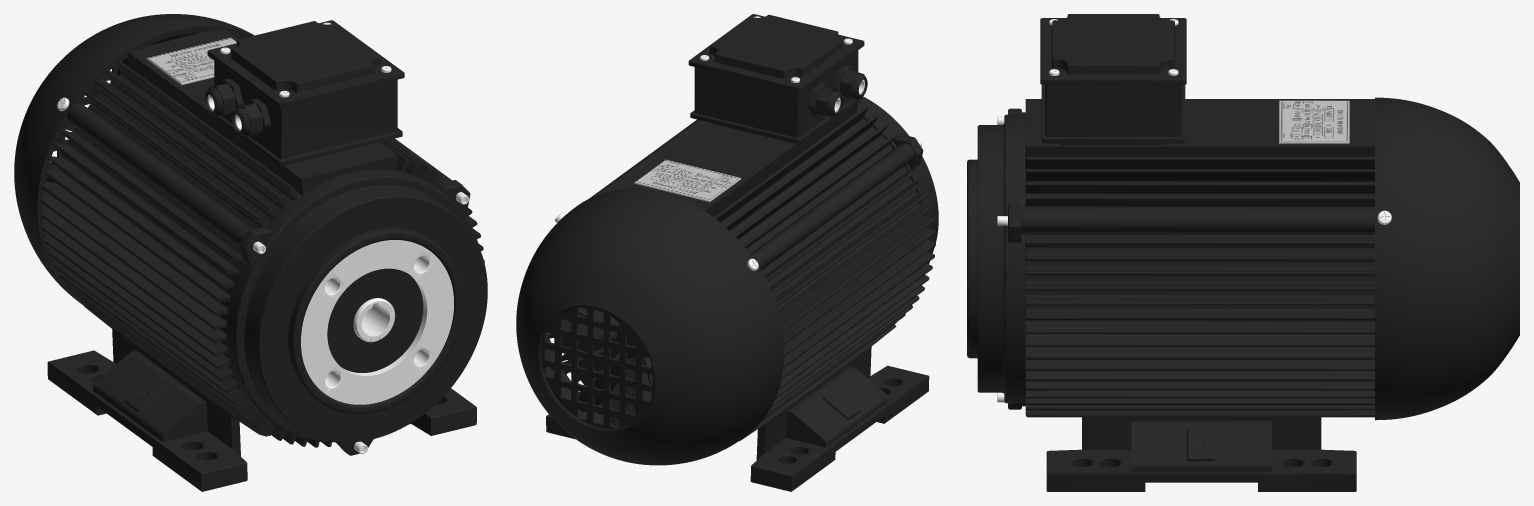
File: Electric_Motor.glb
The picture shows the model from 3 angles, left to right: view 1: azimuth 30°, elevation 25°; view 2: azimuth 150°, elevation 25°; view 3: azimuth 270°, elevation 25°; orthographic projection. The views are drawn at different scales.
Parts seen in each view (by area): view 1: Object_5, Object_3, Object_4, Object_2; view 2: Object_5, Object_4, Object_2, Object_3; view 3: Object_5, Object_4, Object_2, Object_3.
Part boxes in pixels (x1,y1,x2,y2): Object_5: (40,20,487,491); Object_3: (57,22,468,454); Object_4: (14,14,254,306); Object_2: (146,37,236,85); Object_5: (546,14,938,491); Object_4: (516,188,784,465); Object_2: (634,159,740,201); Object_3: (554,16,921,270); Object_5: (967,14,1377,491); Object_4: (1375,97,1519,420); Object_2: (1279,100,1349,143); Object_3: (997,19,1391,402).
Size of the model in its own units: 22.9 by 30.2 by 39.25.
3 materials, 1 textured.
